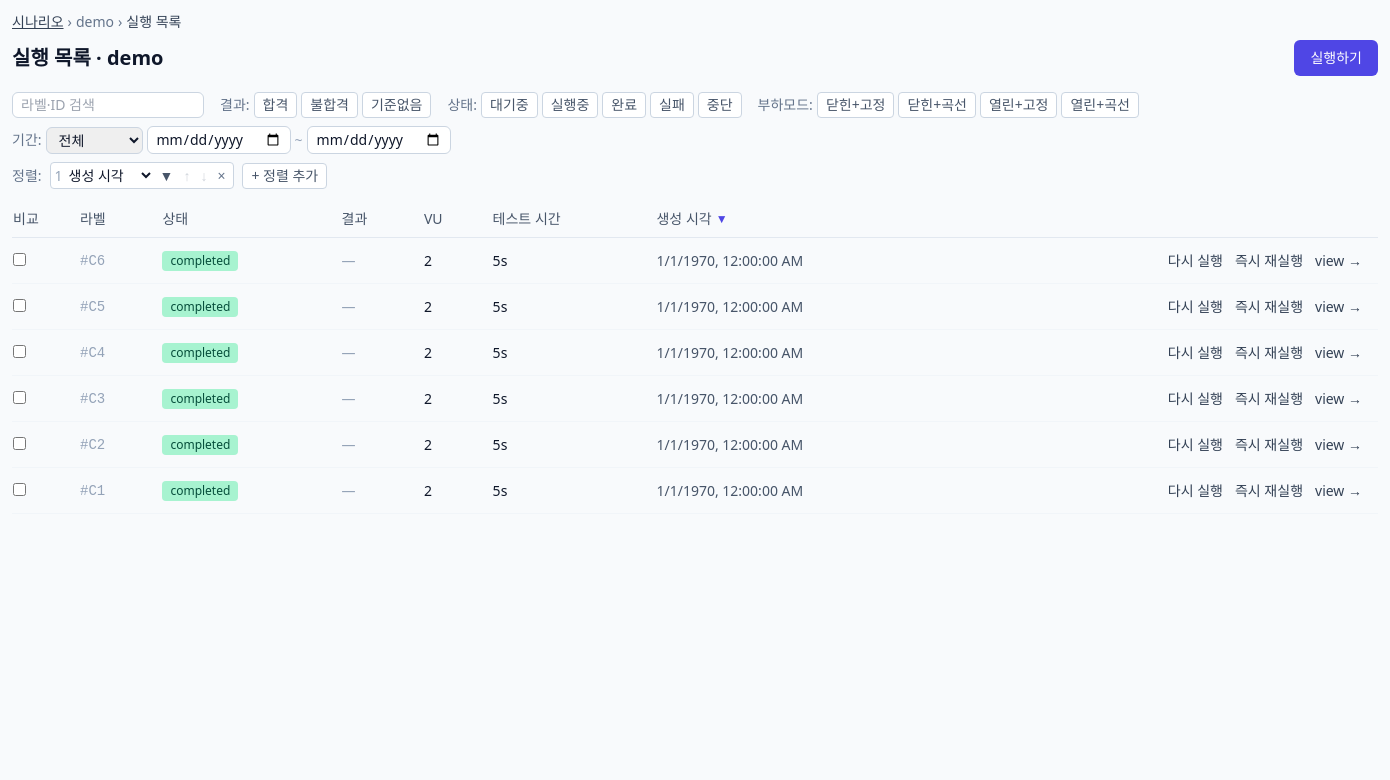
Test: ScenarioRunsPage — run selection + compare (A4b) › selecting 6 completed runs shows the capped warning and disables the screen 비교 button; shows Export XLSX
Step 1. Click the checkbox named "실행 C1 선택" → (20, 489), box [13,482,26,496]
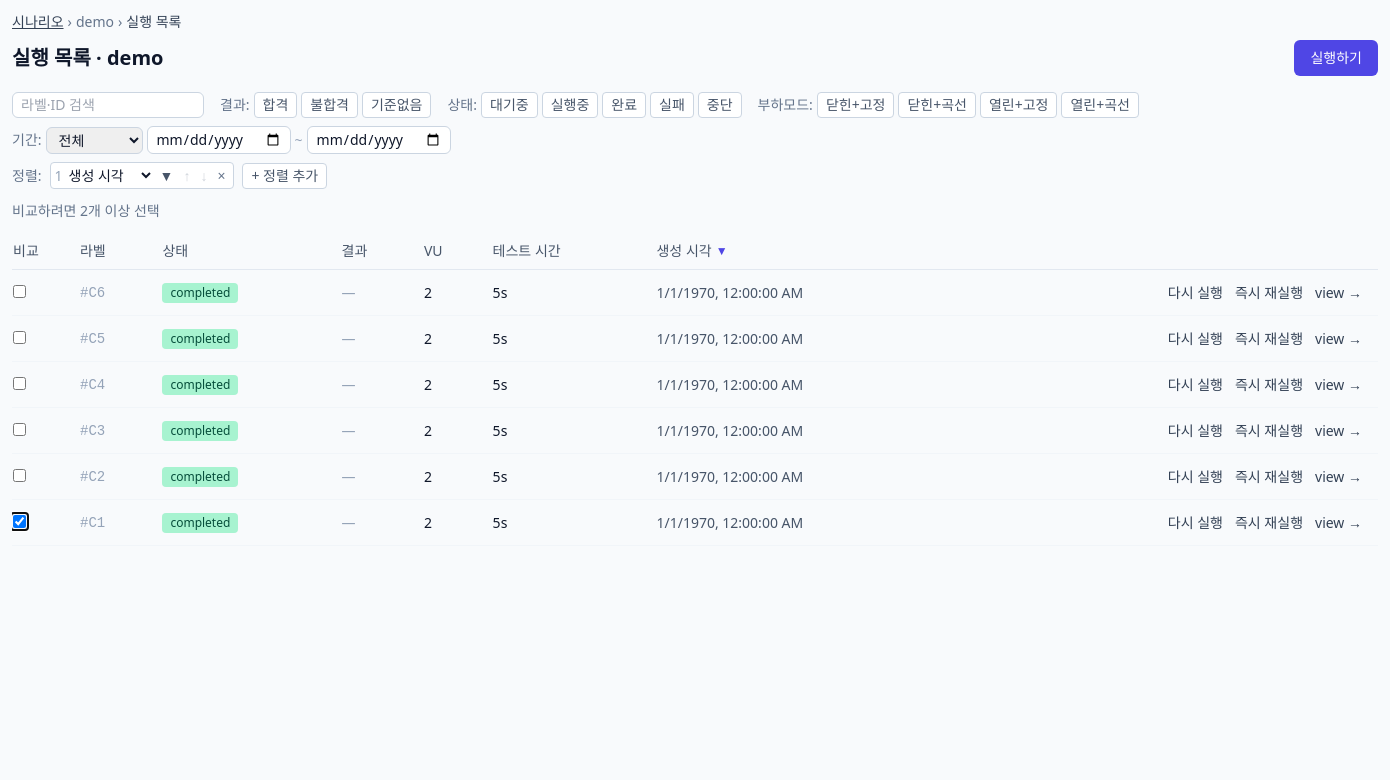
Step 2. Click the checkbox named "실행 C2 선택" → (20, 475), box [13,468,26,482]
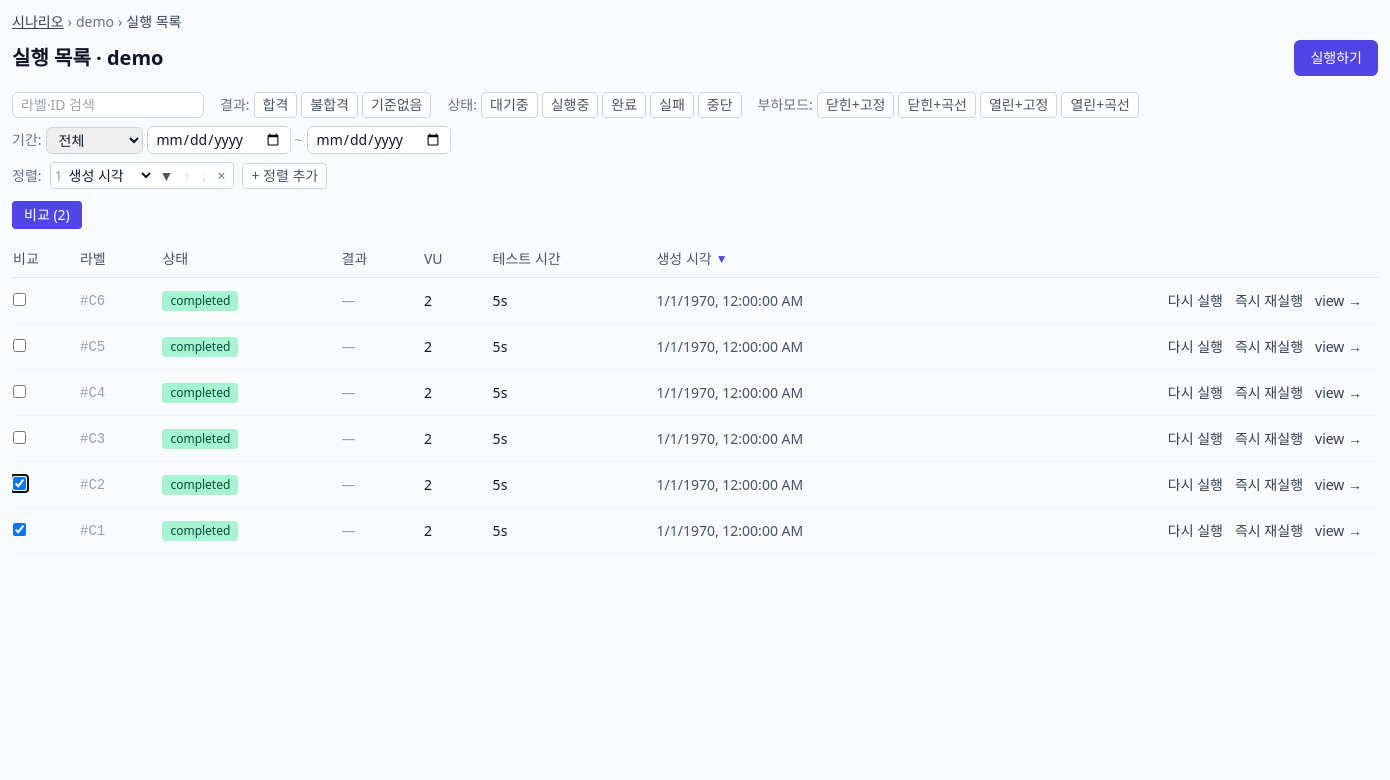
Step 3. Click the checkbox named "실행 C3 선택" → (20, 437), box [13,430,26,444]
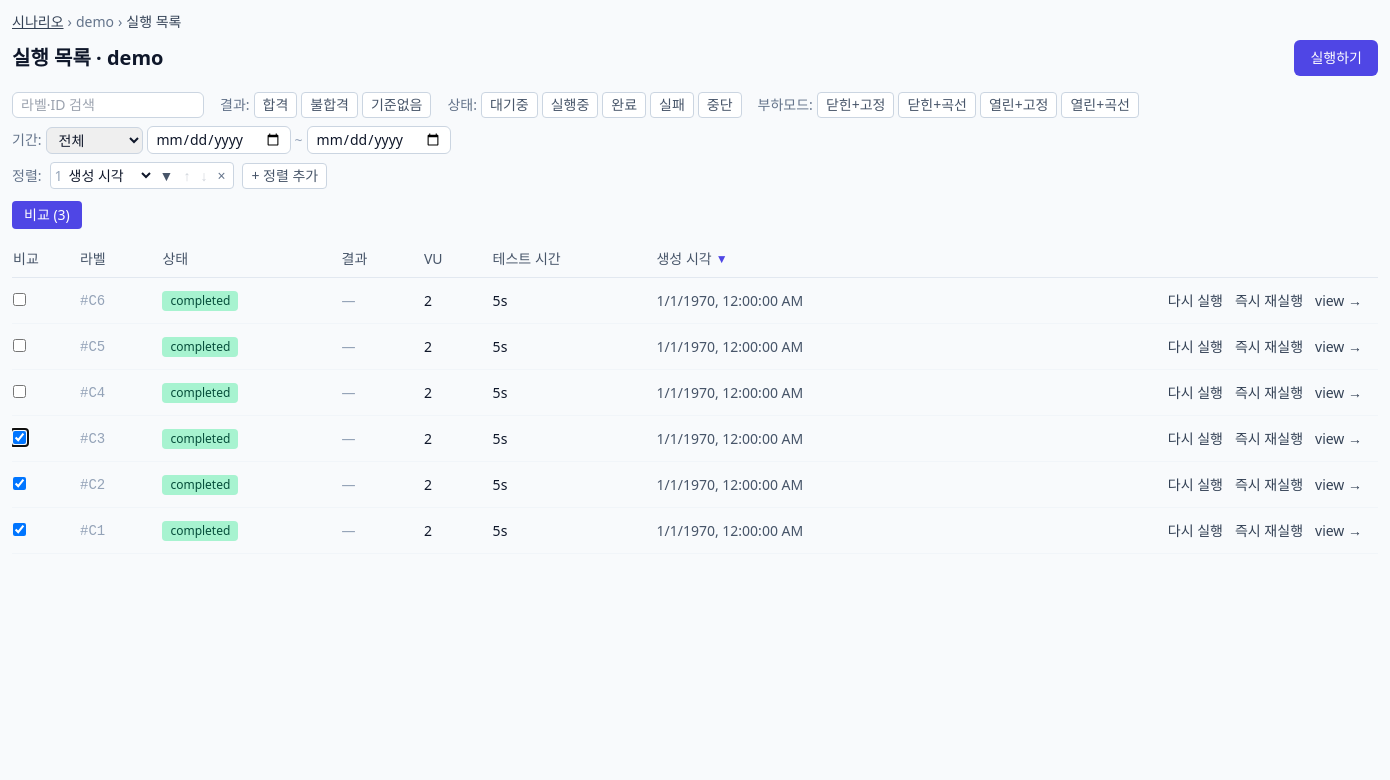
Step 4. Click the checkbox named "실행 C4 선택" → (20, 391), box [13,384,26,398]
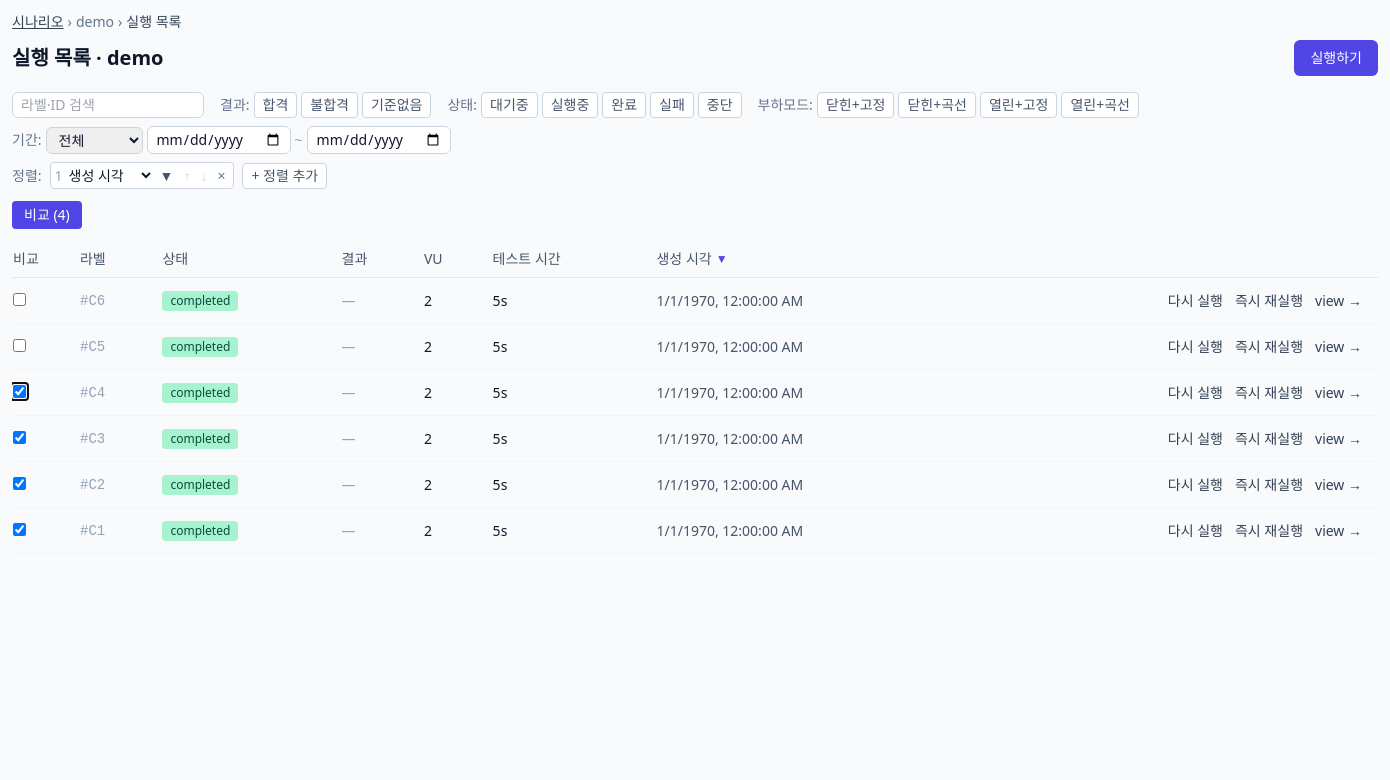
Step 5. Click the checkbox named "실행 C5 선택" → (20, 345), box [13,338,26,352]
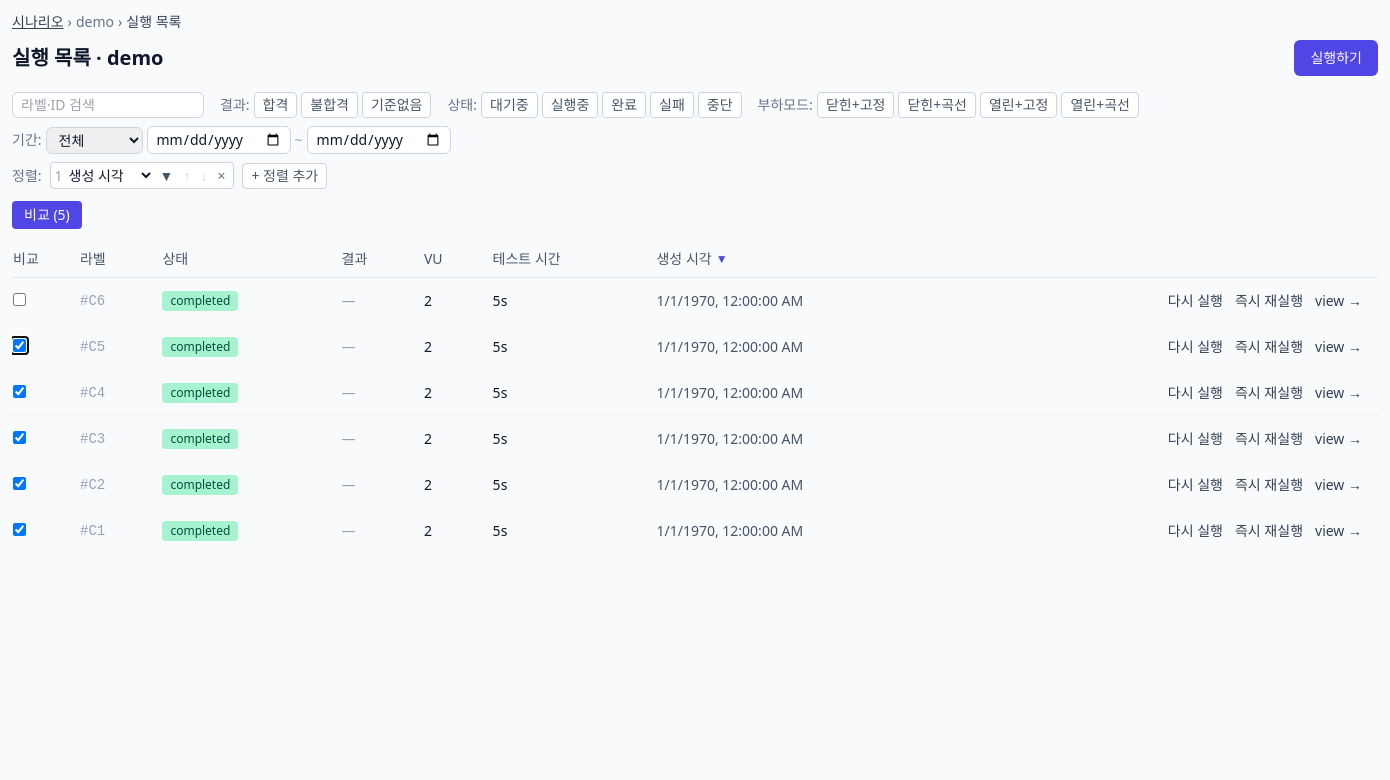
Step 6. Click the checkbox named "실행 C6 선택" → (20, 299), box [13,292,26,306]
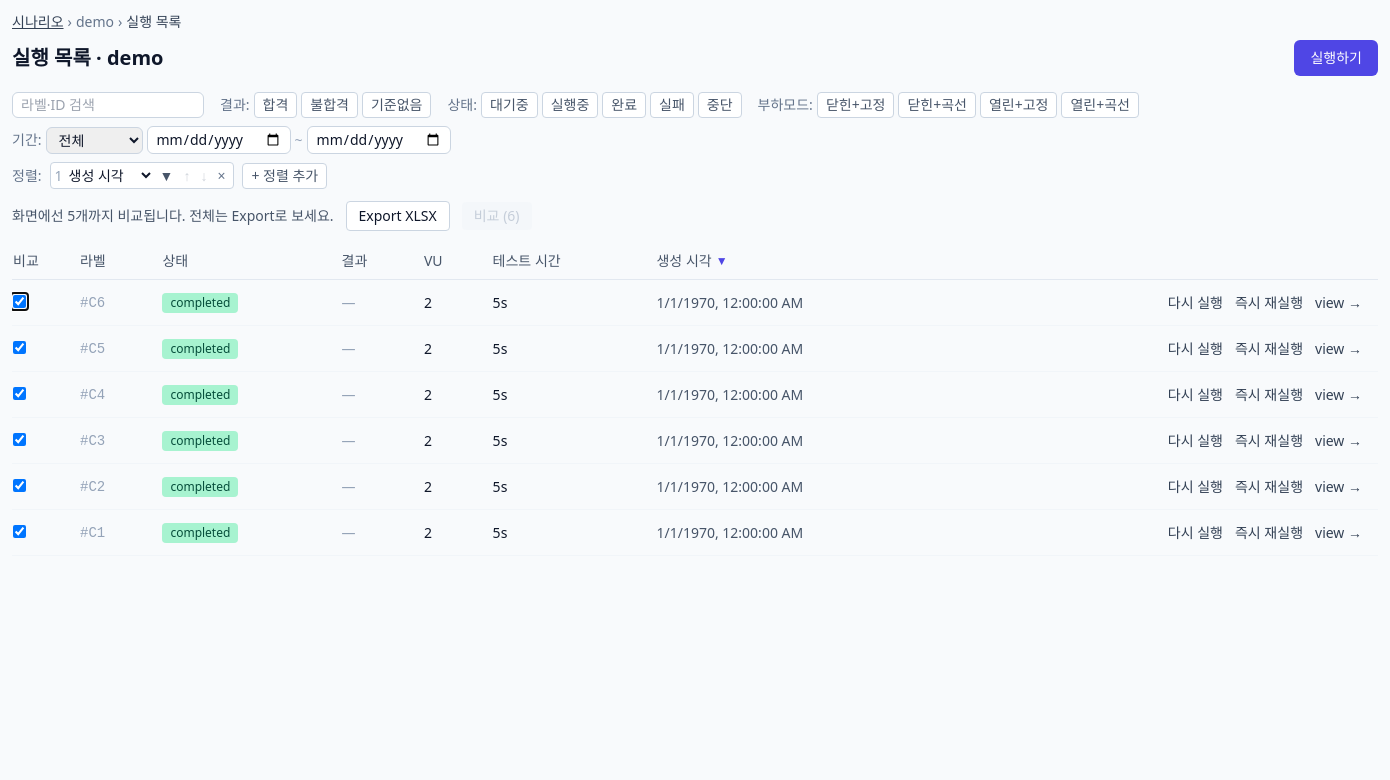
Now the text "화면에선 5개까지 비교됩니다. 전체는 Export로 보세요." is shown, box [12,206,334,226]
Now the button "비교 (6)" is disabled, box [462,202,532,230]
